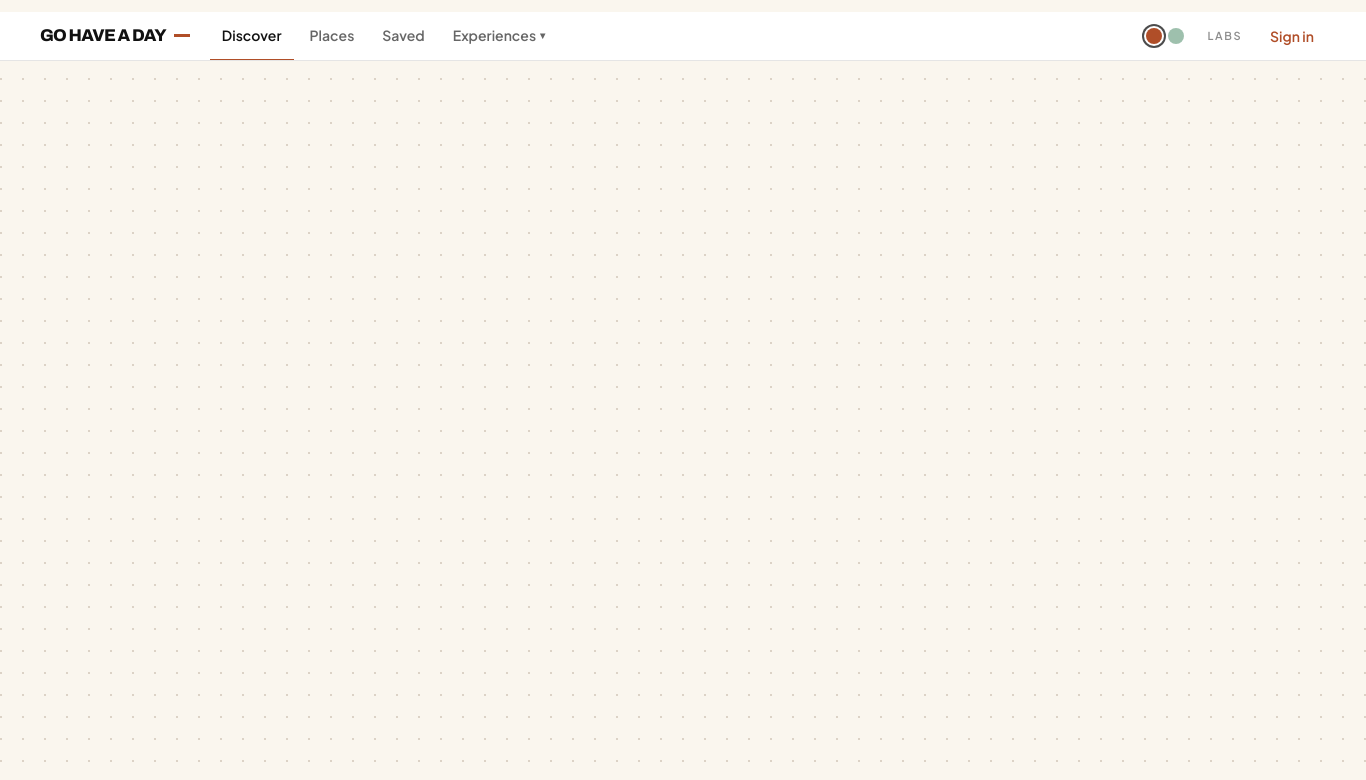
Scenario: experiences › closes again on a second press, and on Escape
Click the button with test id "passport-nav-experiences" at [499, 36], box [441, 12, 557, 60]
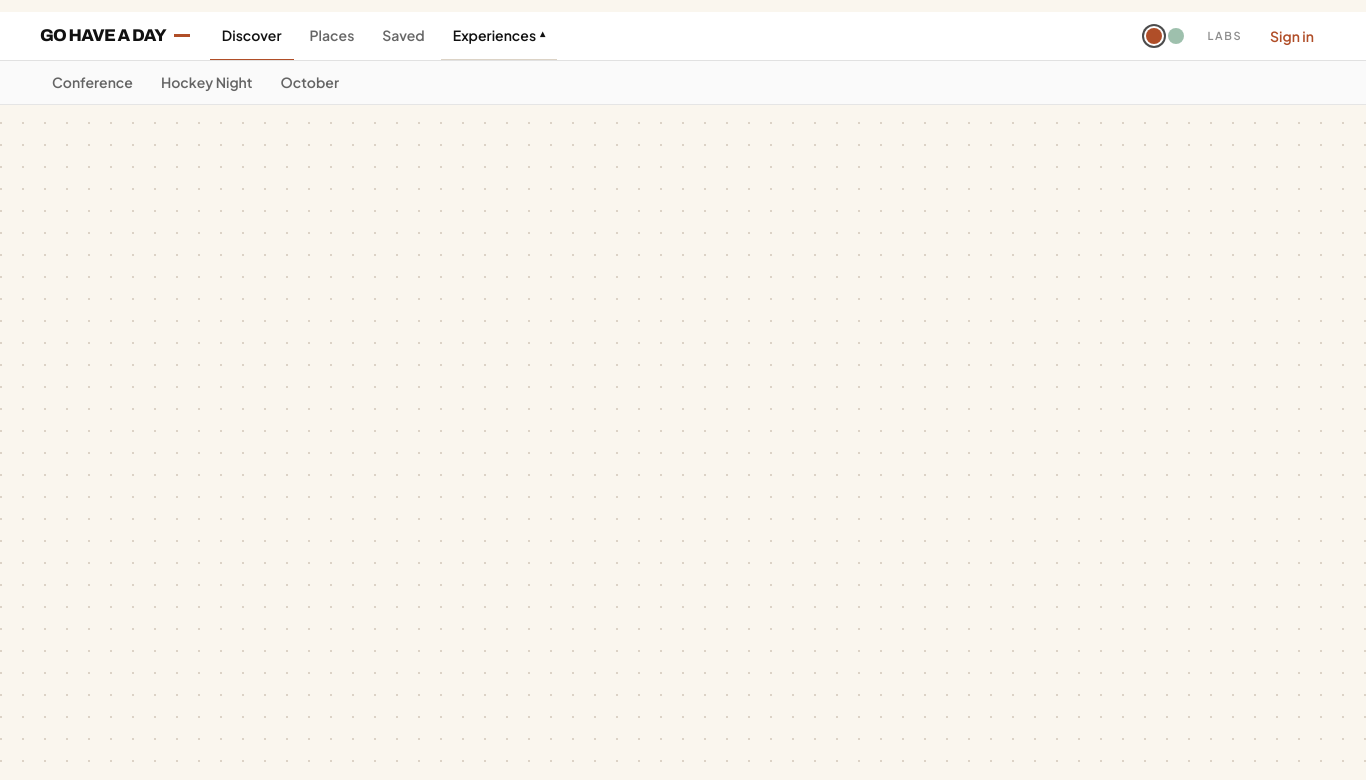
Click the button with test id "passport-nav-experiences" at [499, 36], box [441, 12, 557, 60]
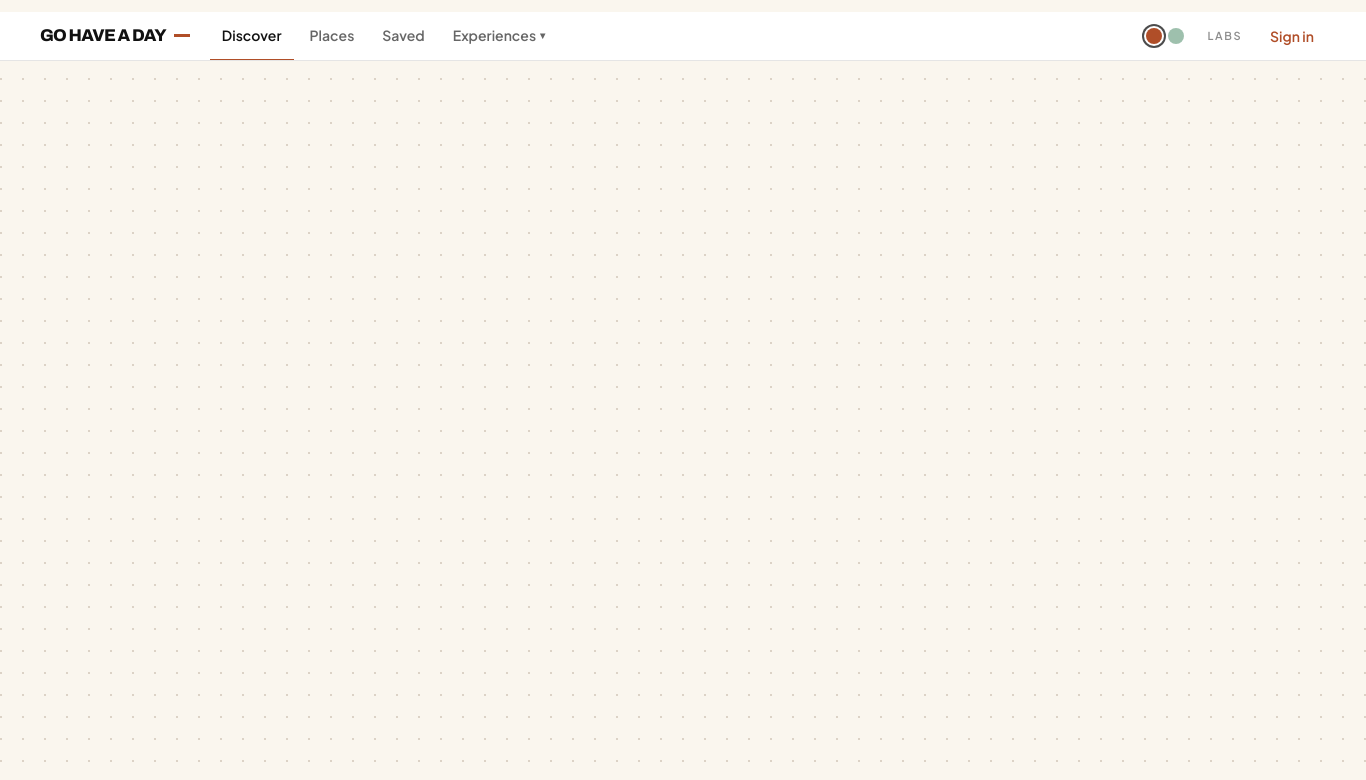
Check: the navigation bar with test id "passport-experiences" is gone
Click the button with test id "passport-nav-experiences" at [499, 36], box [441, 12, 557, 60]
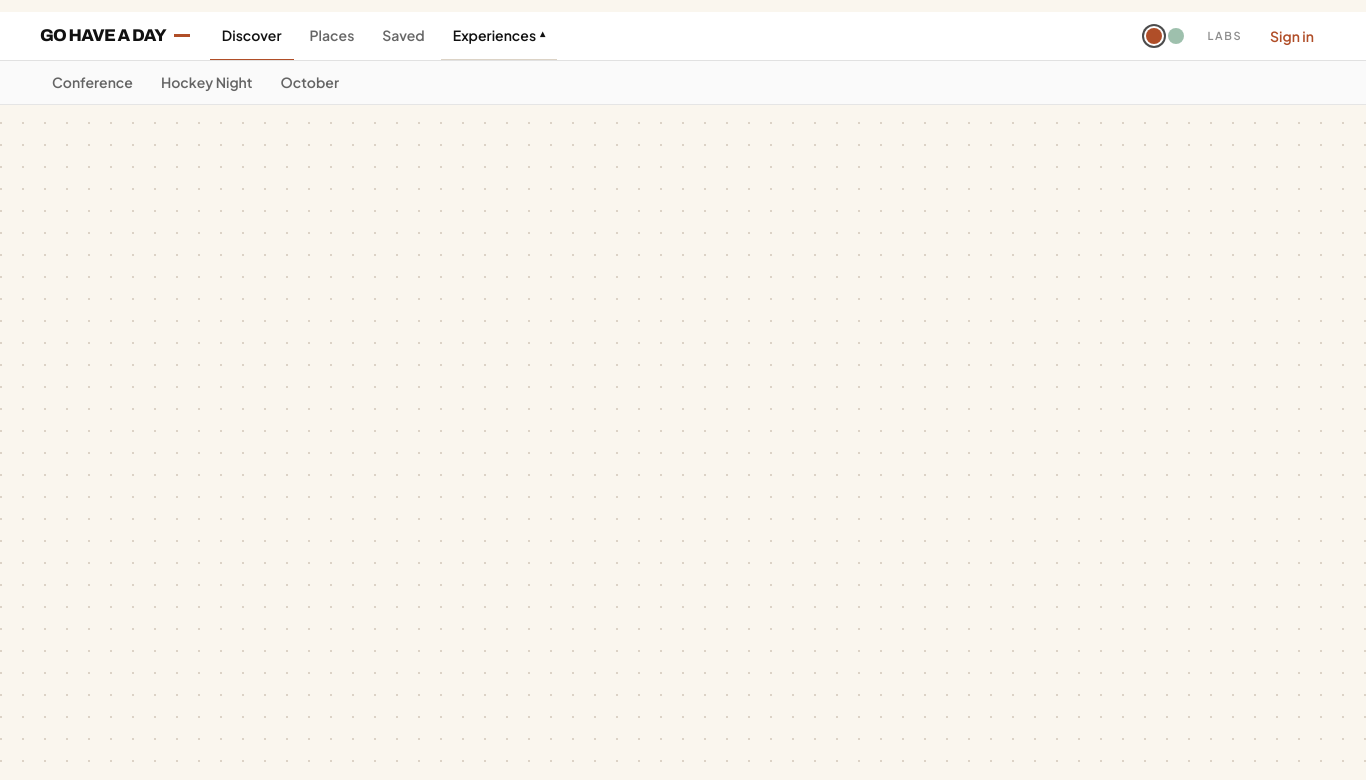
Press Escape
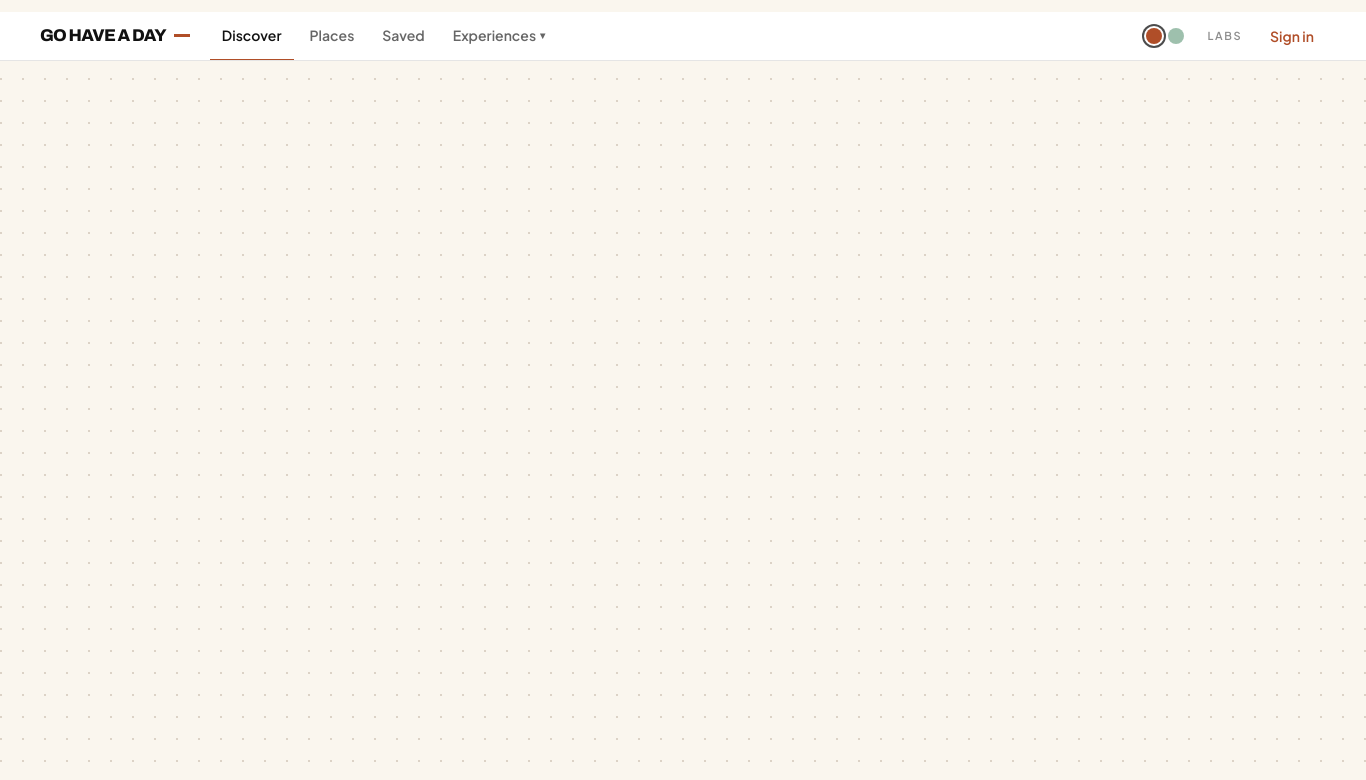
Check: the navigation bar with test id "passport-experiences" is gone
